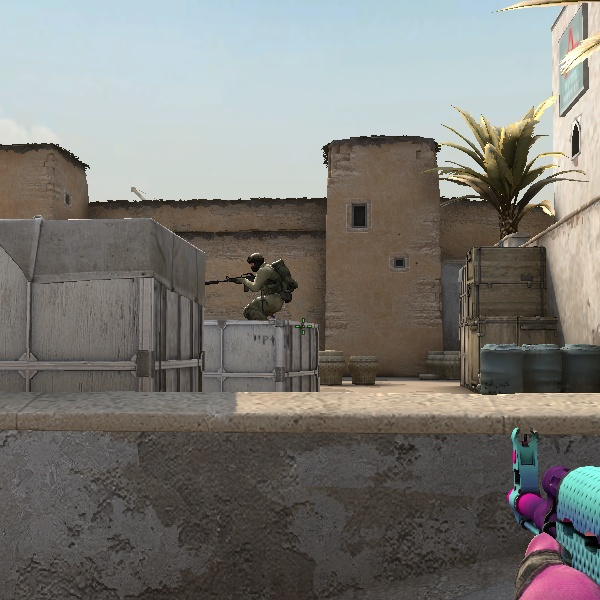ct_body: (238, 252, 292, 316)
ct_head: (247, 252, 265, 271)
